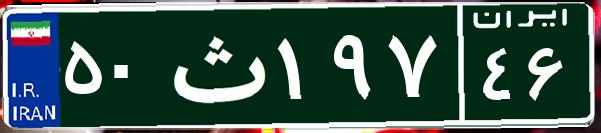0: (110, 28, 158, 105)
1: (273, 28, 330, 110)
4: (475, 38, 525, 113)
5: (57, 26, 110, 107)
6: (525, 38, 570, 115)
7: (385, 28, 445, 110)
9: (330, 28, 385, 110)
ث: (158, 15, 273, 115)
